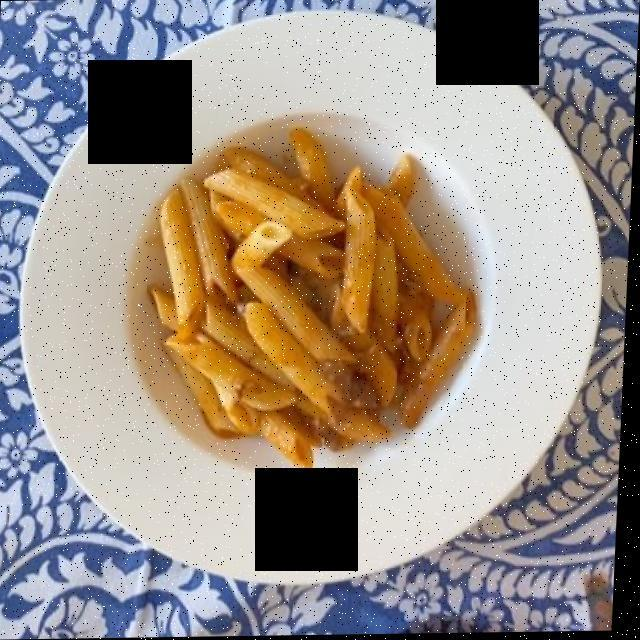pasta: (154, 141, 470, 467)
